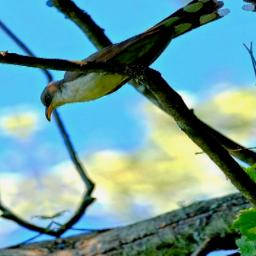Cuckoo: (15, 0, 254, 123)
